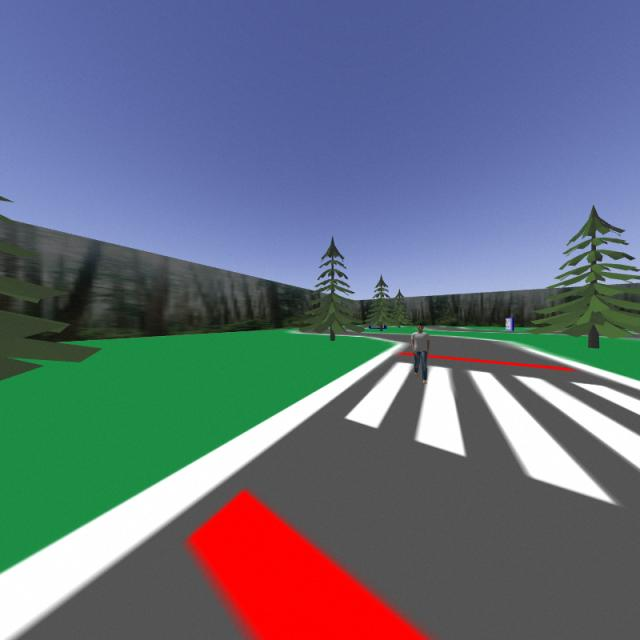pedestrian: (408, 320, 431, 384)
